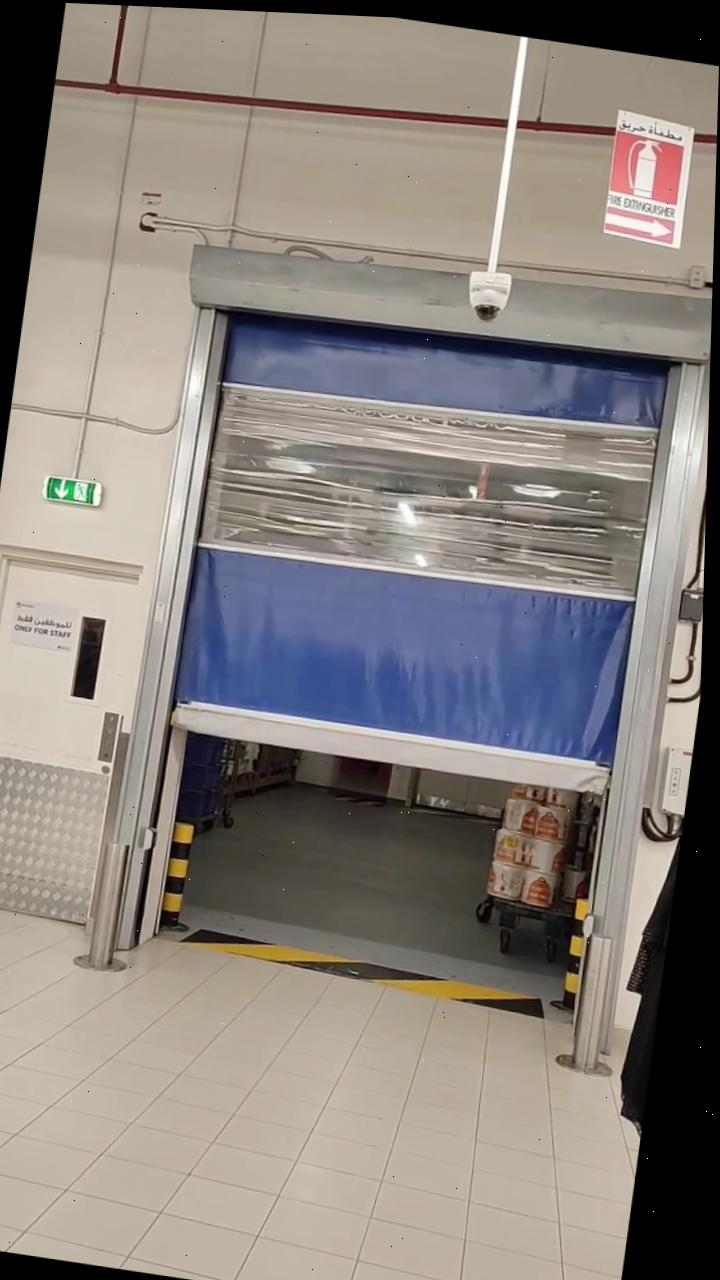Strip: (192, 920, 554, 1026)
